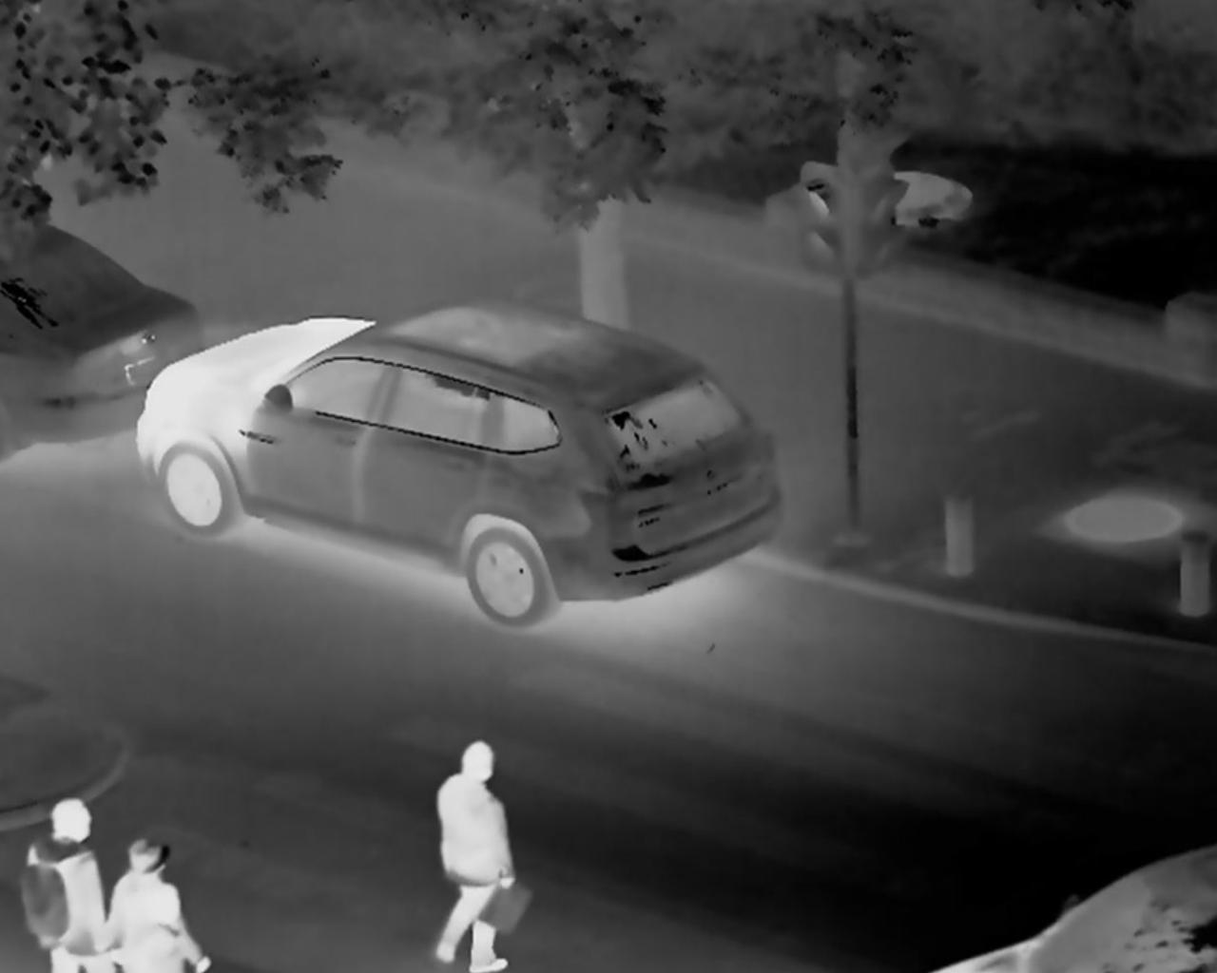person: (441, 725, 529, 973), (35, 779, 104, 973), (121, 831, 193, 973)
